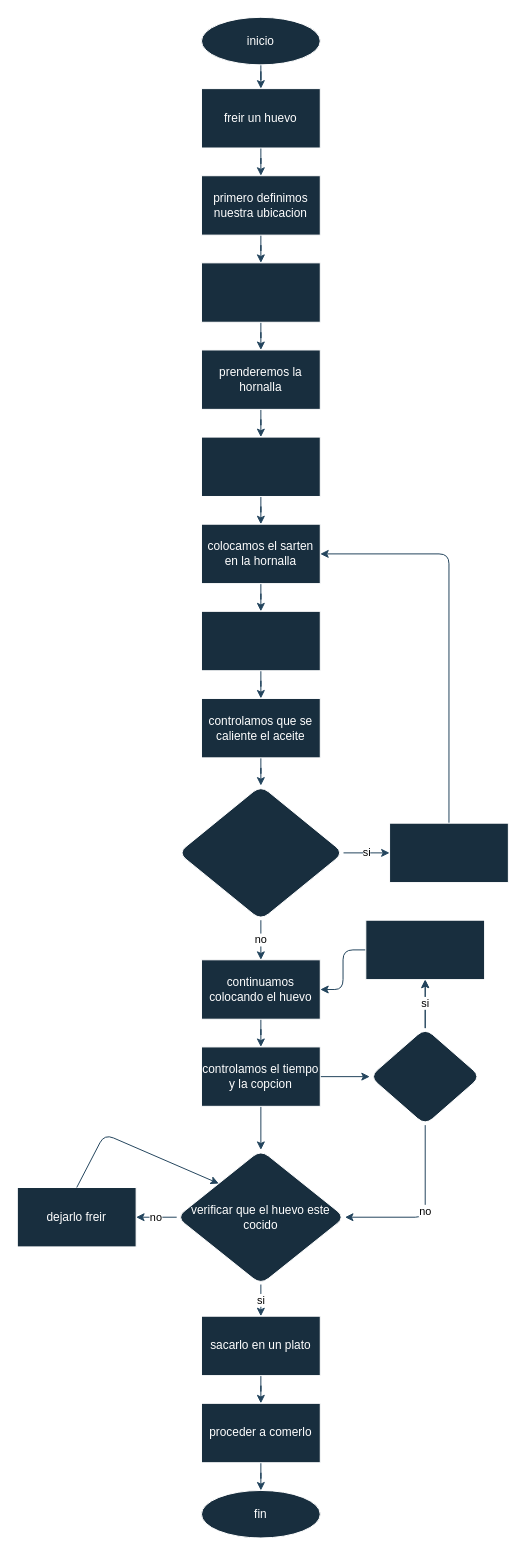
Some shapes in this 526 by 1555 pixel diagram are drawn without their labels. The shapes that lost their labels are listed below. From the top down, each one's centre as x and y in pixels, then its label:
the point at 260,292: llevaremos el huevo a la cocina
the point at 260,466: definir en que sarten lo freiremos
the point at 260,640: colocamos aceite en el sarten
the point at 260,852: que pasa si se quema el aceite
the point at 448,852: votamos el aceite y repetimos el proceso
the point at 425,949: sacamos el huevo
the point at 425,1076: se quemo
